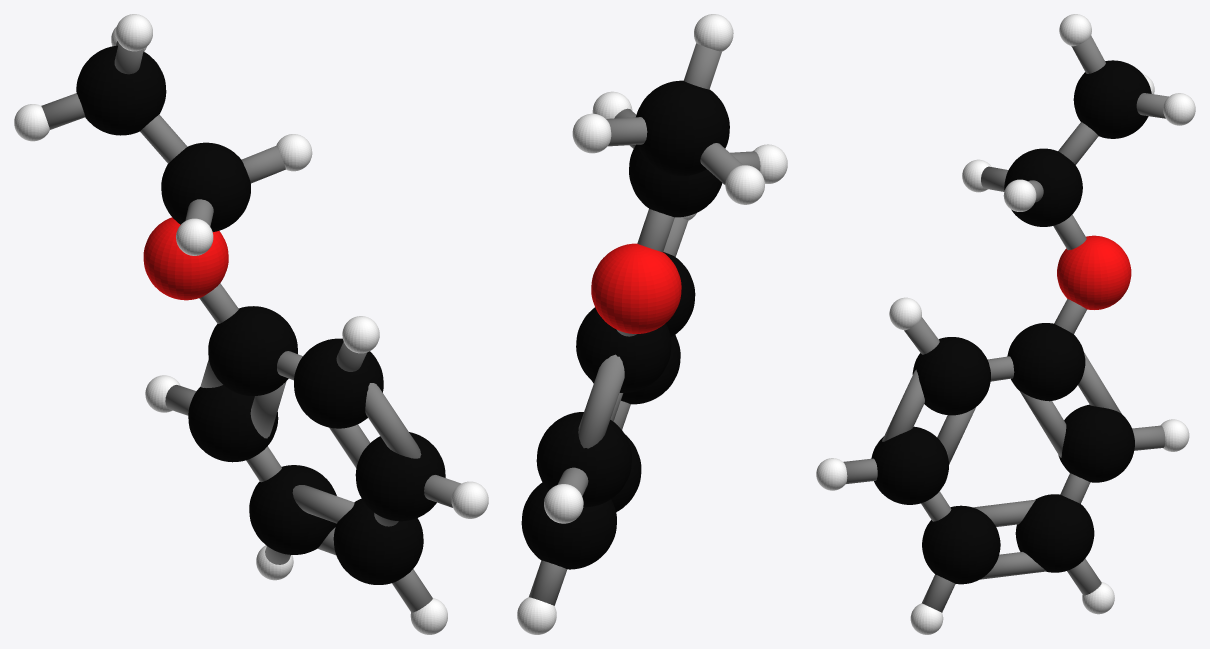
File: ETILFENILETER.obj
The picture shows the model from 3 angles, left to right: view 1: azimuth 30°, elevation 25°; view 2: azimuth 150°, elevation 25°; view 3: azimuth 270°, elevation 25°; orthographic projection. The views are drawn at different scales.
Parts seen in each view (by area): view 1: Carbon_ball_Sphere, Hydrogen_ball_Sphere.001, Oxygen_ball_Sphere.002, Stick_Cylinder.013_Cylinder.013, Stick_Cylinder.001_Cylinder.001, Stick_Cylinder.007_Cylinder.007, Stick_Cylinder.019_Cylinder.019, Stick_Cylinder.018_Cylinder.018, Stick_Cylinder.006_Cylinder.006, Stick_Cylinder_Cylinder, Stick_Cylinder.021_Cylinder.021, Stick_Cylinder.009_Cylinder.009 (+3 smaller); view 2: Carbon_ball_Sphere, Hydrogen_ball_Sphere.001, Oxygen_ball_Sphere.002, Stick_Cylinder.011_Cylinder.011, Stick_Cylinder.008_Cylinder.008, Stick_Cylinder.015_Cylinder.015, Stick_Cylinder.014_Cylinder.014, Stick_Cylinder.005_Cylinder.005, Stick_Cylinder.006_Cylinder.006, Stick_Cylinder.003_Cylinder.003, Stick_Cylinder.012_Cylinder.012; view 3: Carbon_ball_Sphere, Hydrogen_ball_Sphere.001, Oxygen_ball_Sphere.002, Stick_Cylinder.013_Cylinder.013, Stick_Cylinder.019_Cylinder.019, Stick_Cylinder.011_Cylinder.011, Stick_Cylinder.020_Cylinder.020, Stick_Cylinder.001_Cylinder.001, Stick_Cylinder.021_Cylinder.021, Stick_Cylinder.007_Cylinder.007, Stick_Cylinder_Cylinder, Stick_Cylinder.008_Cylinder.008 (+11 smaller).
Part boxes in pixels (bbox=[...]): Carbon_ball_Sphere: bbox=[76, 45, 445, 584]; Hydrogen_ball_Sphere.001: bbox=[14, 14, 488, 634]; Oxygen_ball_Sphere.002: bbox=[143, 217, 228, 300]; Stick_Cylinder.013_Cylinder.013: bbox=[365, 383, 421, 458]; Stick_Cylinder.001_Cylinder.001: bbox=[292, 485, 354, 523]; Stick_Cylinder.007_Cylinder.007: bbox=[140, 114, 187, 163]; Stick_Cylinder.019_Cylinder.019: bbox=[250, 381, 286, 438]; Stick_Cylinder.018_Cylinder.018: bbox=[241, 145, 285, 183]; Stick_Cylinder.006_Cylinder.006: bbox=[41, 93, 85, 129]; Stick_Cylinder_Cylinder: bbox=[392, 569, 432, 612]; Stick_Cylinder.021_Cylinder.021: bbox=[329, 424, 370, 467]; Stick_Cylinder.009_Cylinder.009: bbox=[199, 283, 238, 323]; Carbon_ball_Sphere: bbox=[521, 80, 729, 569]; Hydrogen_ball_Sphere.001: bbox=[517, 14, 787, 634]; Oxygen_ball_Sphere.002: bbox=[591, 243, 681, 333]; Stick_Cylinder.011_Cylinder.011: bbox=[578, 354, 624, 448]; Stick_Cylinder.008_Cylinder.008: bbox=[683, 43, 721, 89]; Stick_Cylinder.015_Cylinder.015: bbox=[529, 560, 567, 605]; Stick_Cylinder.014_Cylinder.014: bbox=[637, 208, 674, 252]; Stick_Cylinder.005_Cylinder.005: bbox=[606, 117, 647, 146]; Stick_Cylinder.006_Cylinder.006: bbox=[700, 143, 742, 184]; Stick_Cylinder.003_Cylinder.003: bbox=[663, 217, 688, 256]; Stick_Cylinder.012_Cylinder.012: bbox=[557, 467, 588, 496]; Carbon_ball_Sphere: bbox=[871, 60, 1151, 584]; Hydrogen_ball_Sphere.001: bbox=[816, 14, 1195, 634]; Oxygen_ball_Sphere.002: bbox=[1057, 235, 1131, 309]; Stick_Cylinder.013_Cylinder.013: bbox=[882, 369, 924, 441]; Stick_Cylinder.019_Cylinder.019: bbox=[1019, 390, 1066, 457]; Stick_Cylinder.011_Cylinder.011: bbox=[1078, 352, 1121, 413]; Stick_Cylinder.020_Cylinder.020: bbox=[980, 552, 1046, 579]; Stick_Cylinder.001_Cylinder.001: bbox=[973, 499, 1035, 526]; Stick_Cylinder.021_Cylinder.021: bbox=[937, 407, 975, 464]; Stick_Cylinder.007_Cylinder.007: bbox=[1058, 122, 1098, 164]; Stick_Cylinder_Cylinder: bbox=[922, 574, 955, 612]; Stick_Cylinder.008_Cylinder.008: bbox=[1071, 35, 1105, 73].
Size of the model in its own units: 5.47 by 10.35 by 6.7.
